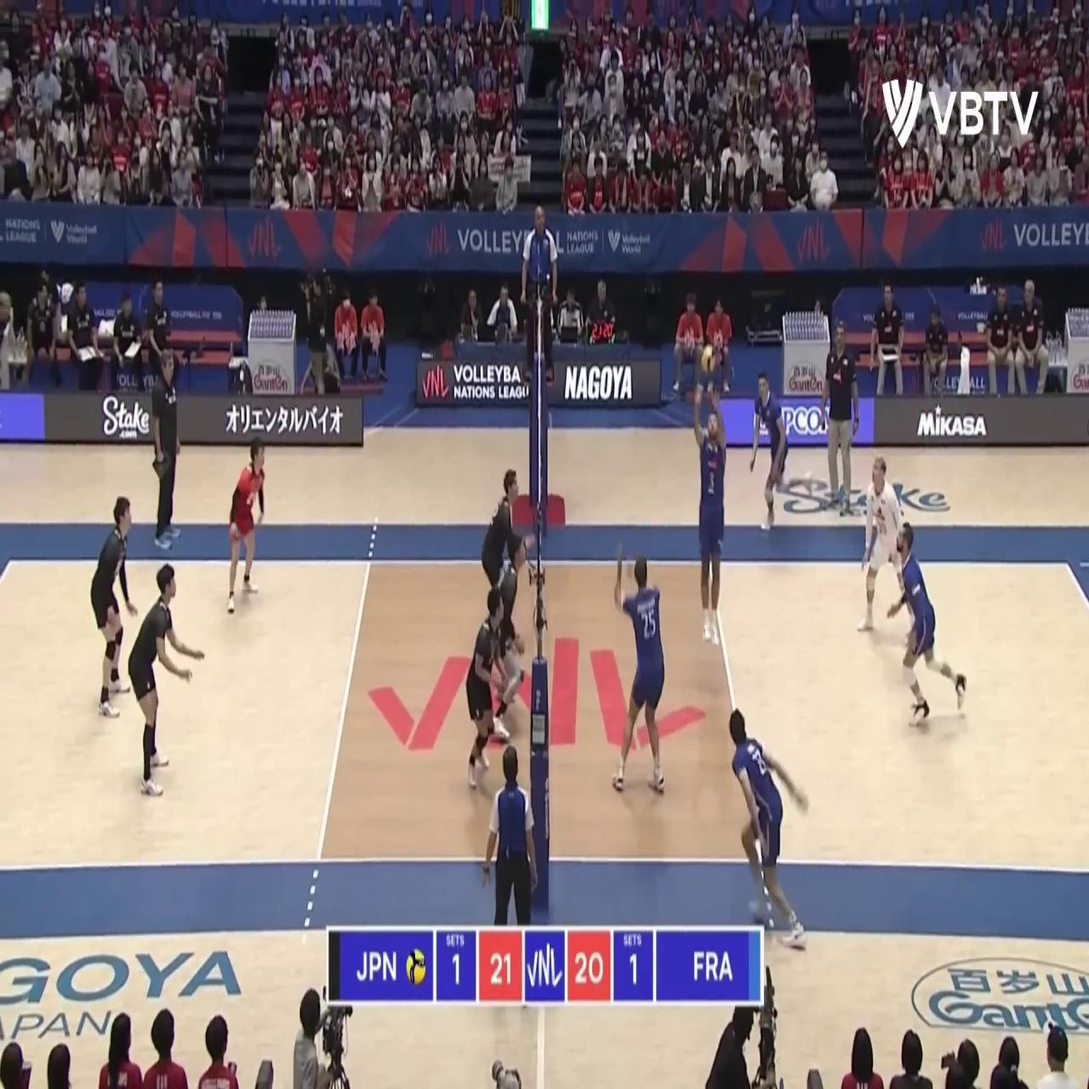ball: (700, 343, 717, 374)
